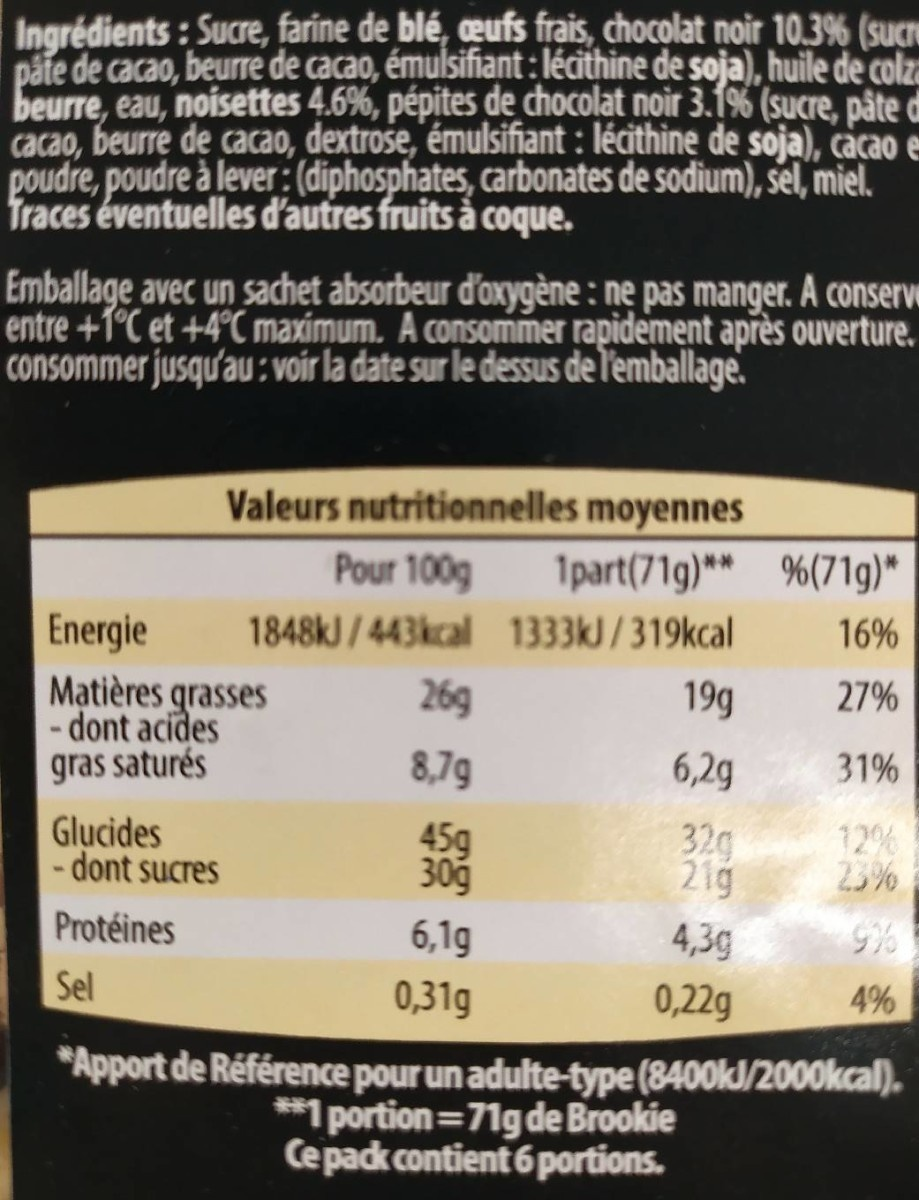column: (45, 538, 478, 1047), (505, 535, 736, 1048), (775, 543, 902, 1047)
table: (26, 463, 918, 1046)
